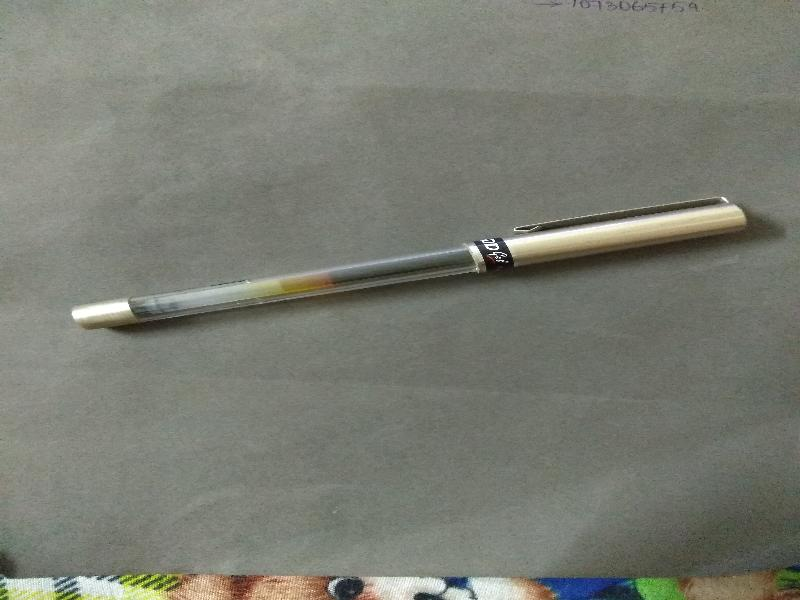pen: (66, 190, 762, 341)
